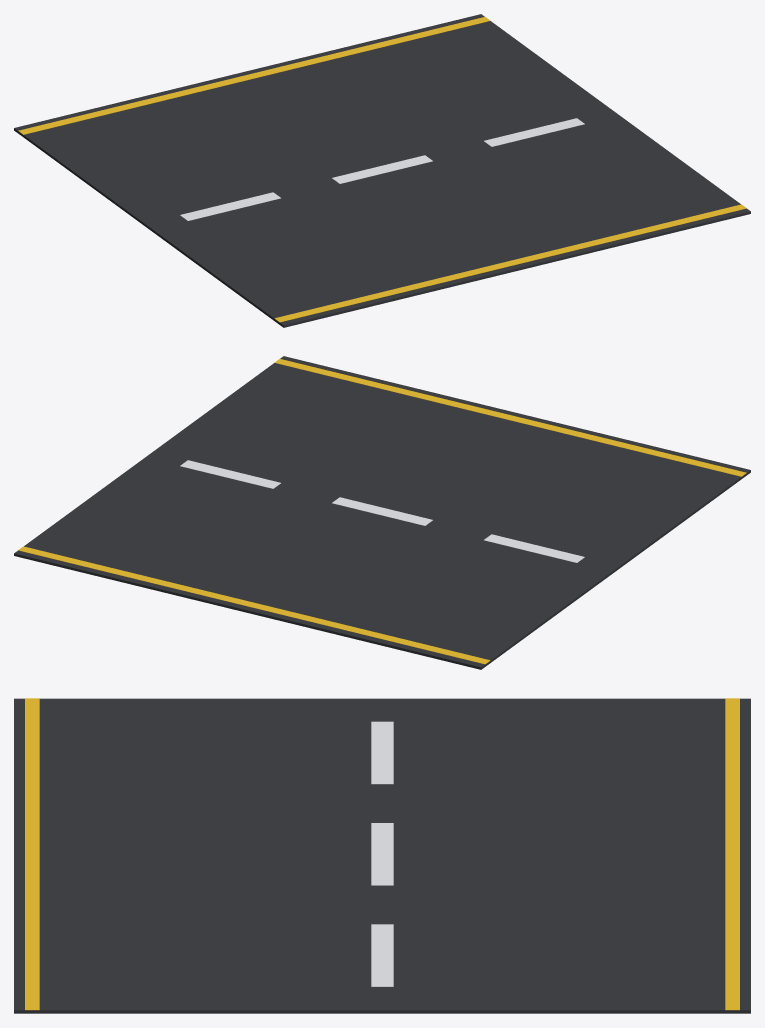
File: road_straight_4m.glb
The picture shows the model from 3 angles, top to bottom: view 1: azimuth 30°, elevation 25°; view 2: azimuth 150°, elevation 25°; view 3: azimuth 270°, elevation 25°; orthographic projection. The views are drawn at different scales.
Parts seen in each view (by area): view 1: road_straight_4m; view 2: road_straight_4m; view 3: road_straight_4m.
Boxes of the visible parts, x1,y1,x2,y2 form: road_straight_4m: (14, 14, 750, 327); road_straight_4m: (14, 356, 750, 669); road_straight_4m: (14, 698, 750, 1013).
Size of the model in its own units: 4 by 0.022 by 4.
